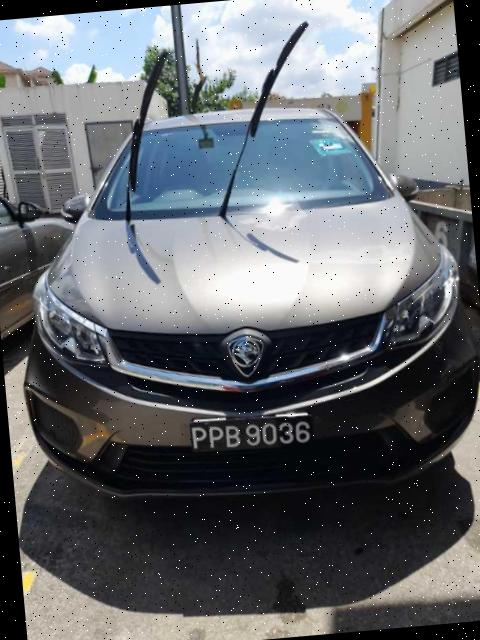License_Plate: (189, 409, 316, 456)
car: (1, 8, 480, 519)
